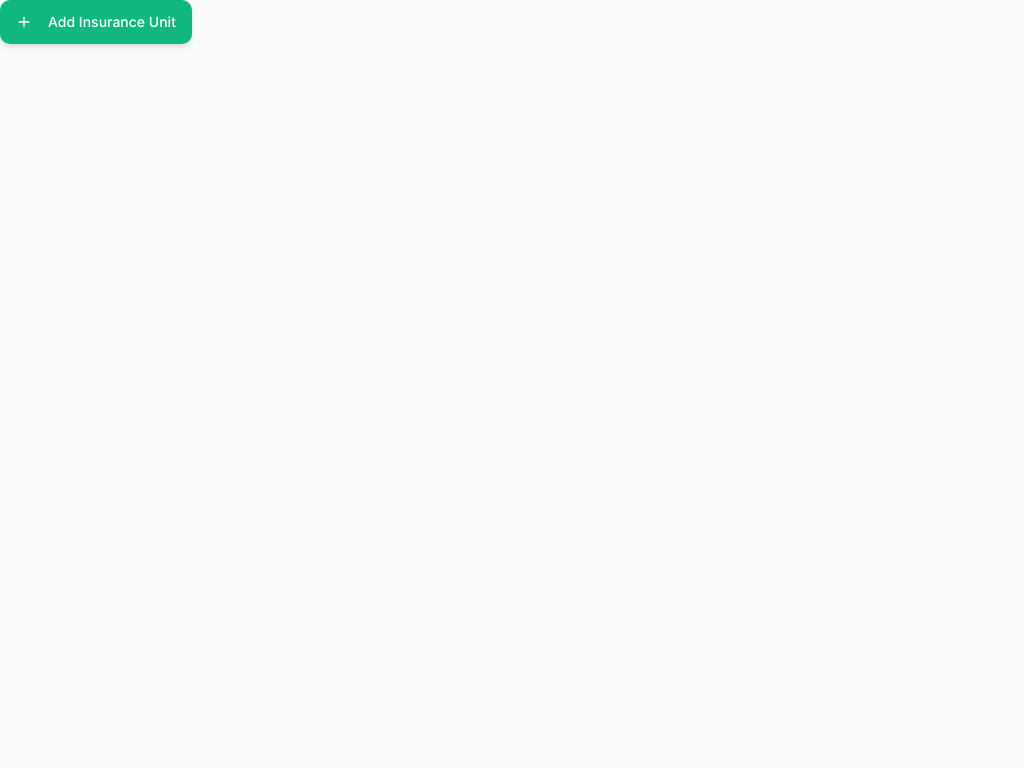
CreateInsuranceUnitDialog › hints the GH- prefix and uses Region/District for Ghana
The width and height of the screenshot is (1024, 768).
Click the button "Add Insurance Unit": (96, 22) 0,0 -> 192,44
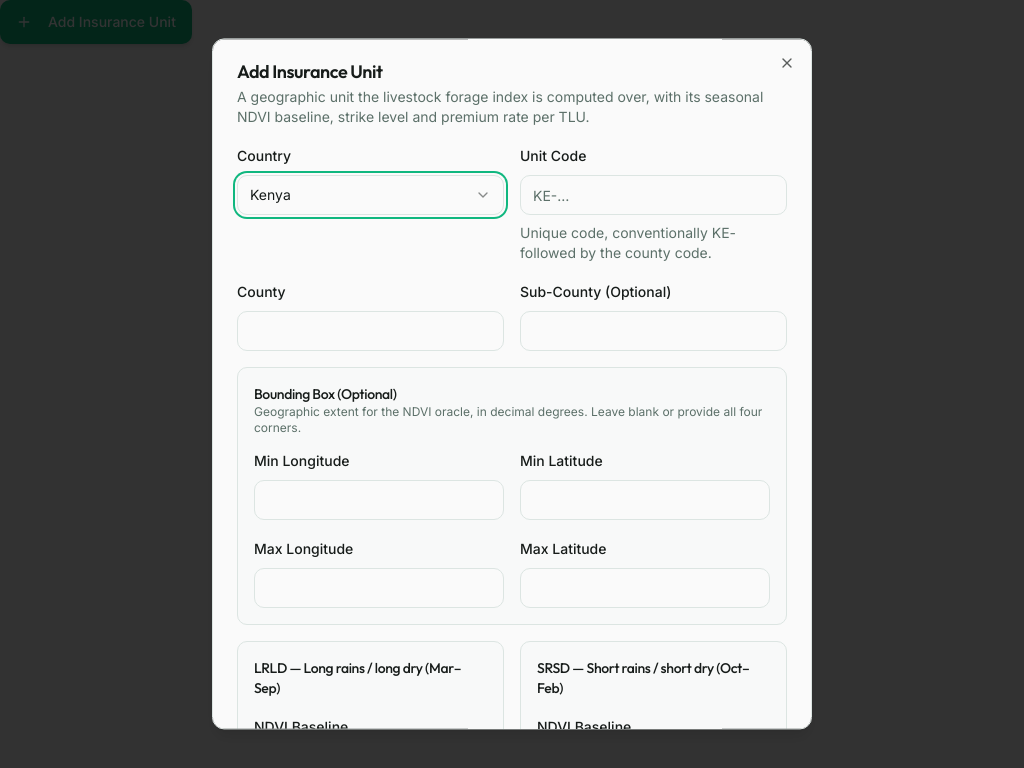
Click the dropdown named "Country": (270, 195) 237,175 -> 504,215
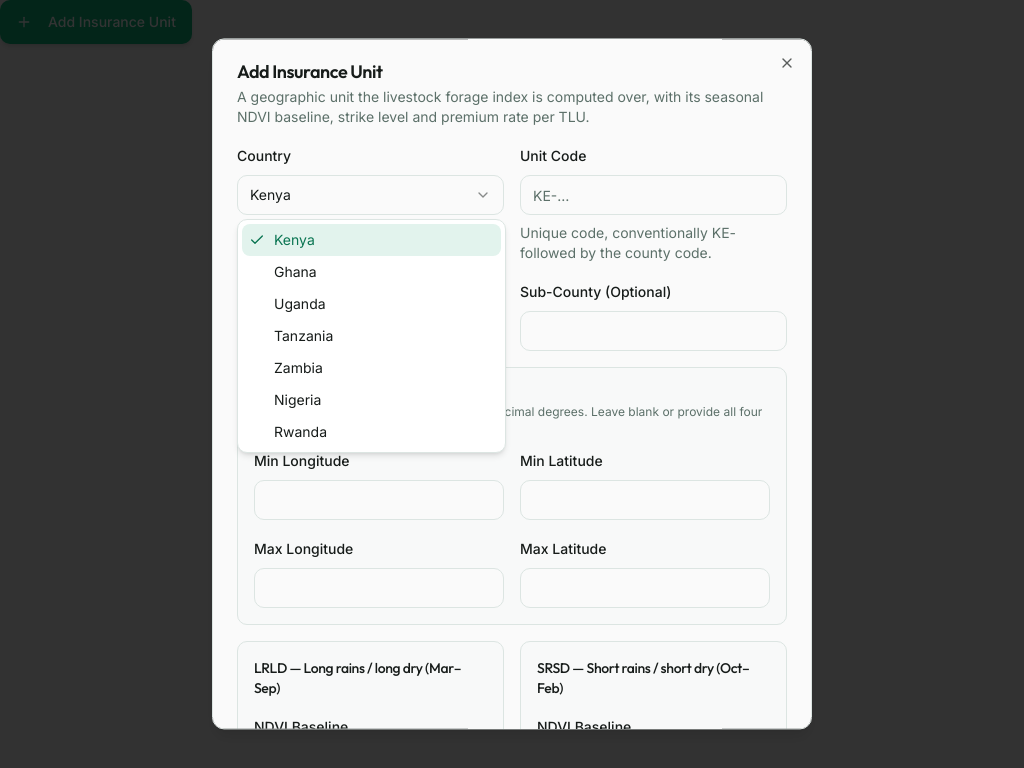
Click the option "Ghana": (295, 272) 274,263 -> 317,280
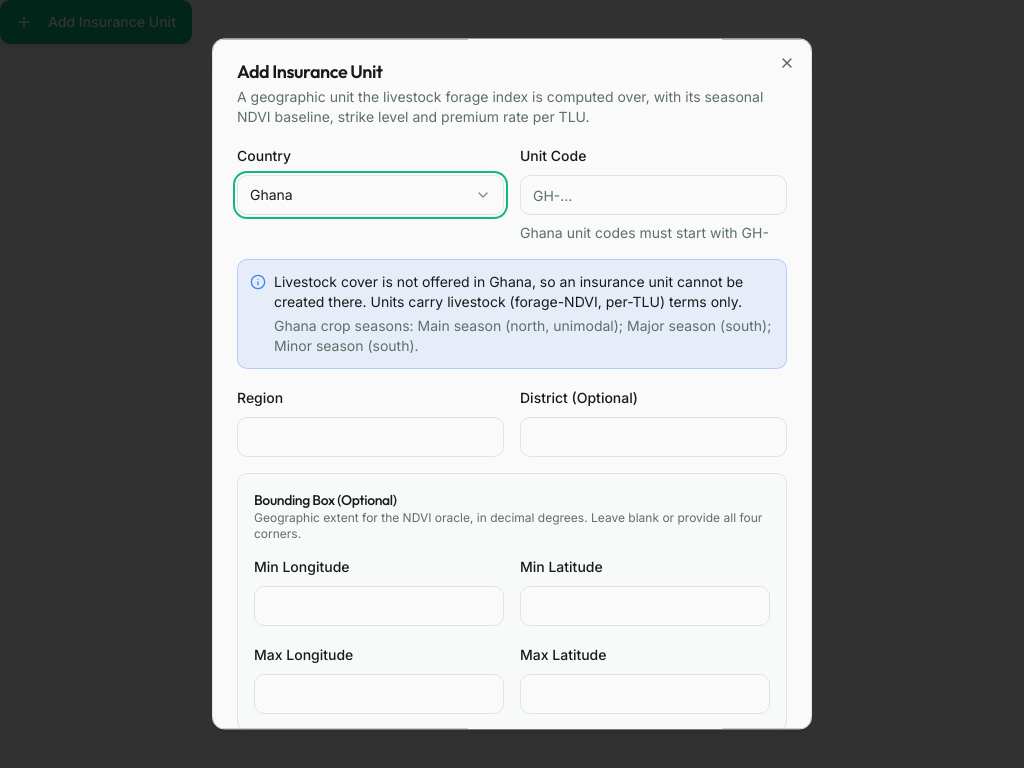
expect the field labelled "Region" is shown: met, box 237,417 -> 504,457
expect the field labelled "District (Optional)" is shown: met, box 520,417 -> 787,457
expect the text "Ghana unit codes must start with GH-" is shown: met, box 520,223 -> 787,243
